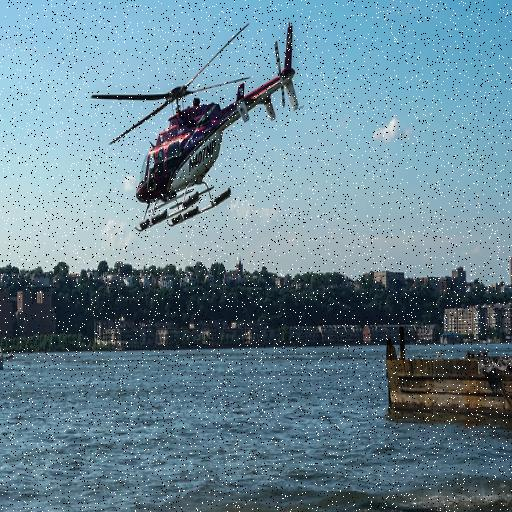helicopter: (86, 10, 314, 239)
